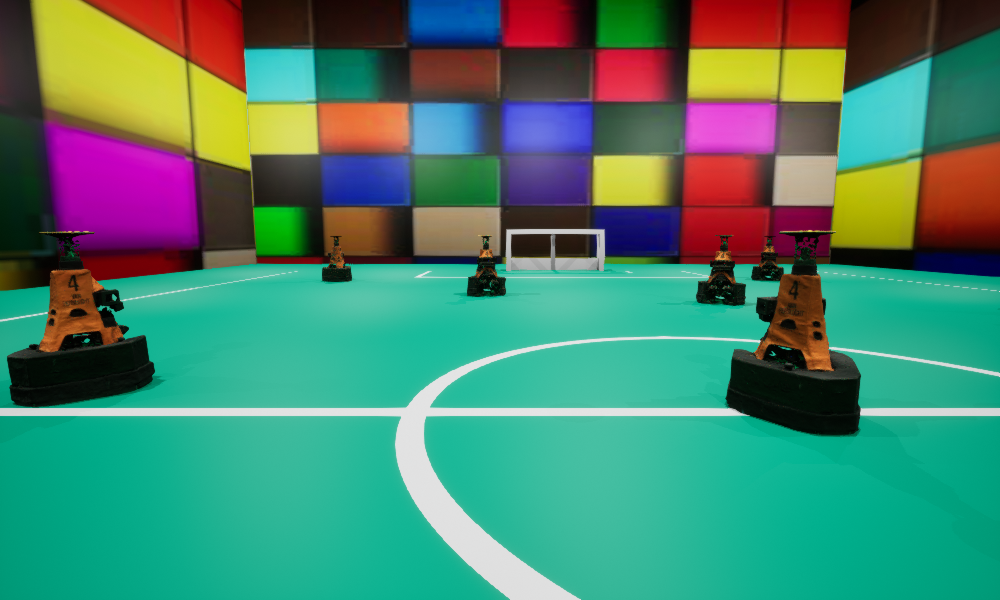o: (725, 230, 860, 434), (7, 231, 154, 406), (696, 235, 745, 304), (467, 235, 505, 296), (751, 236, 783, 280), (322, 236, 351, 281)
